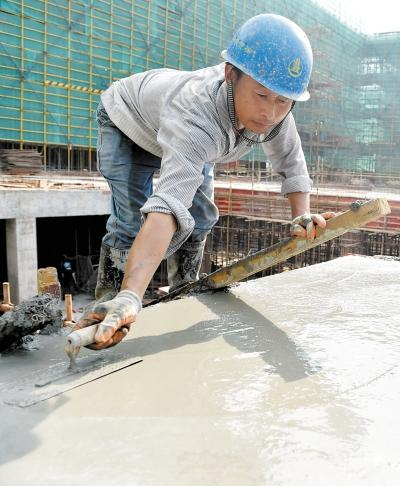helmet: (225, 15, 313, 105)
